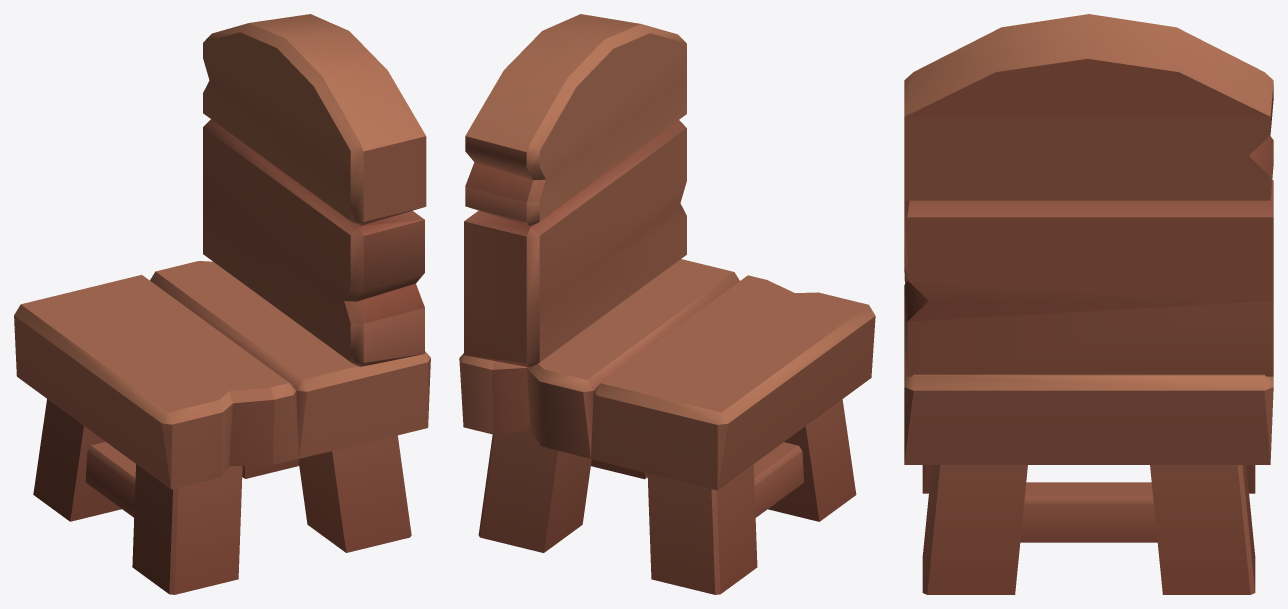
The model's file is chair.fbx.
3 renders of one model, left to right at view 1: azimuth 30°, elevation 25°; view 2: azimuth 150°, elevation 25°; view 3: azimuth 270°, elevation 25°, orthographic. The views are drawn at different scales.
Parts seen in each view (by area): view 1: chair; view 2: chair; view 3: chair.
Boxes of the visible parts, bbox=[...] form: chair: bbox=[14, 14, 430, 594]; chair: bbox=[459, 14, 875, 594]; chair: bbox=[904, 14, 1273, 594].
Size of the model in its own units: 75 by 123 by 75.
1 material, 1 textured.
